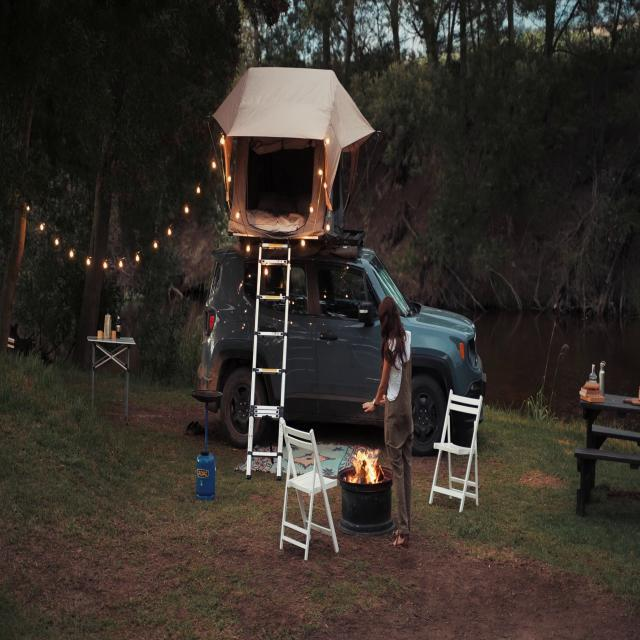Fire: (346, 442, 380, 484)
